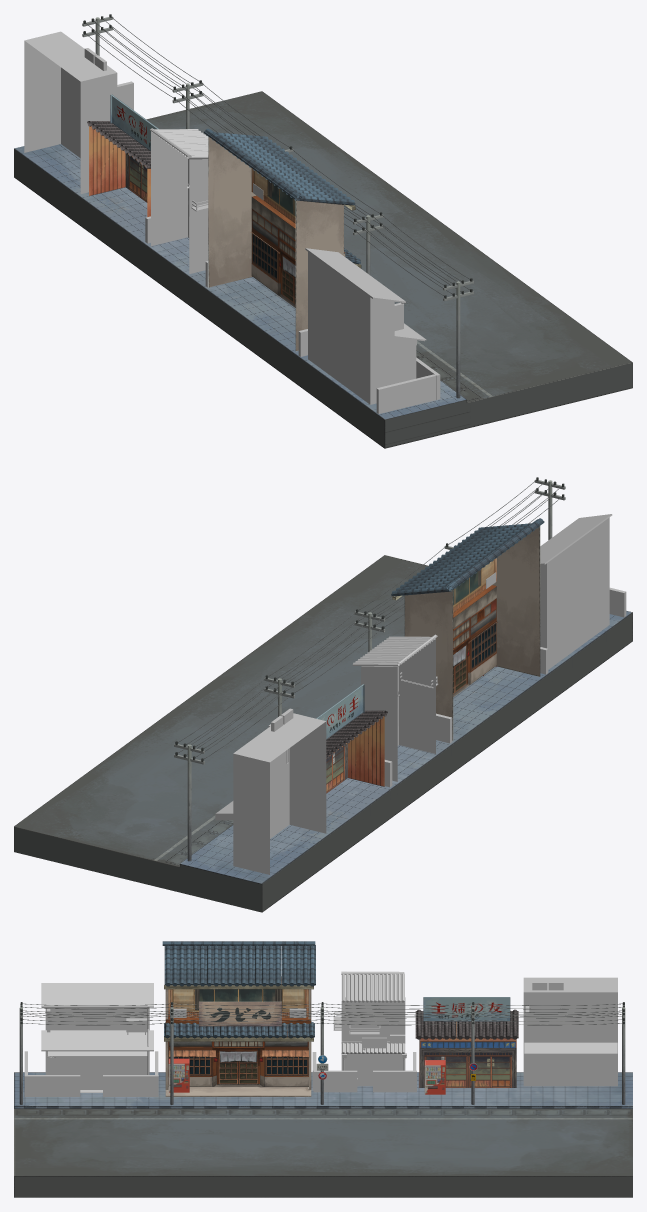
File: city japan06.fbx
The picture shows the model from 3 angles, top to bottom: view 1: azimuth 30°, elevation 25°; view 2: azimuth 150°, elevation 25°; view 3: azimuth 270°, elevation 25°; orthographic projection. The views are drawn at different scales.
Parts seen in each view (by area): view 1: Cube, Cube.004, Cube.001, Cube.009, Cube.005, Circle.047, Cube.006, Cube.025, Cube.018, Circle.023, Cylinder.007; view 2: Cube, Cube.004, Cube.009, Cube.001, Cube.005, Circle.047, Cube.006, Cube.018, Circle.023, Cylinder.004; view 3: Cube, Cube.001, Cube.004, Cube.009, Circle.047, Cube.006, Cube.005, Cube.012, Cube.018, Circle.025, Cube.020, Cube.026 (+11 smaller).
Part boxes in pixels (box(x1,y1,x2,y2)): Cube: box(14, 91, 632, 448); Cube.004: box(208, 136, 345, 351); Cube.001: box(305, 248, 426, 404); Cube.009: box(24, 31, 117, 193); Cube.005: box(151, 131, 208, 273); Circle.047: box(208, 132, 355, 205); Cube.006: box(89, 126, 150, 216); Cube.025: box(376, 374, 436, 413); Cube.018: box(110, 94, 159, 151); Circle.023: box(204, 128, 302, 200); Cylinder.007: box(443, 278, 473, 398); Cube: box(14, 555, 632, 912); Cube.004: box(404, 526, 540, 740); Cube.009: box(233, 713, 326, 874); Cube.001: box(540, 514, 612, 669); Cube.005: box(361, 639, 435, 781); Circle.047: box(391, 523, 538, 596); Cube.006: box(326, 716, 384, 793); Cube.018: box(316, 684, 364, 739); Circle.023: box(445, 518, 544, 590); Cylinder.004: box(174, 741, 204, 861); Cube: box(14, 1072, 632, 1197); Cube.001: box(41, 983, 153, 1092); Cube.004: box(165, 976, 311, 1096); Cube.009: box(523, 977, 617, 1086); Circle.047: box(164, 945, 315, 986); Cube.006: box(419, 1022, 516, 1087); Cube.005: box(341, 997, 405, 1086); Cube.012: box(199, 1001, 281, 1026); Cube.018: box(423, 997, 510, 1021); Circle.025: box(164, 1021, 314, 1038); Cube.020: box(524, 1042, 617, 1059); Cube.026: box(24, 1075, 80, 1096).
Bounding box in the file's own units: 765 × 549 × 1970.
